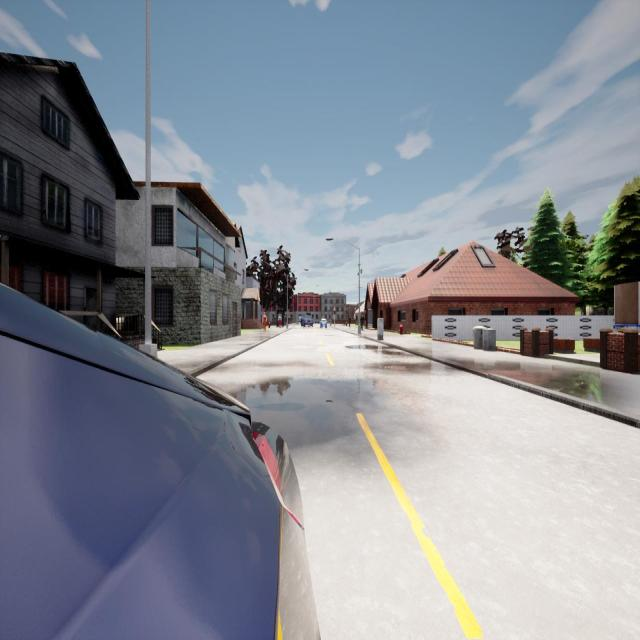Pedestrian: (262, 311, 267, 331), (360, 313, 365, 330), (348, 314, 351, 327), (278, 316, 281, 328)
Vehicle: (0, 285, 315, 638), (301, 316, 313, 327), (320, 318, 327, 329)
traffic_light: (334, 310, 336, 314)
